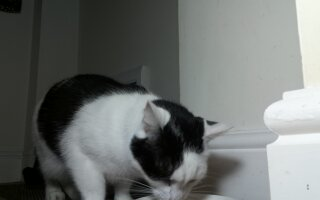bad: (28, 73, 233, 200)
